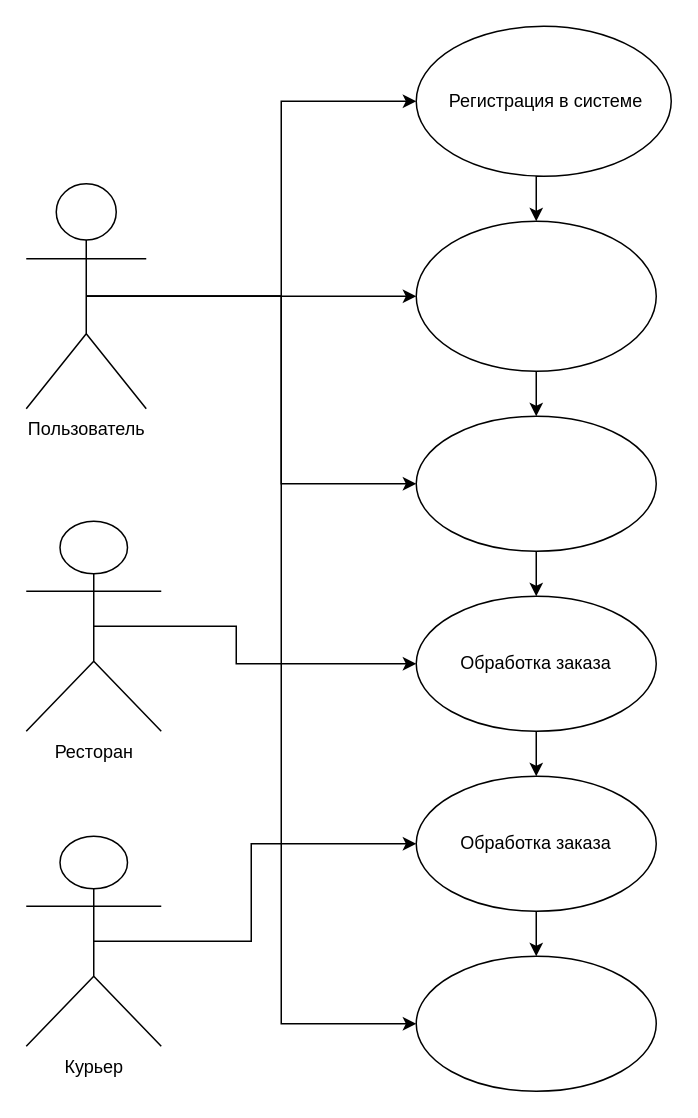
Some shapes in this 698 by 1118 pixel diagram are drawn without their labels. Each missing label, with the centre of its shape:
Оформление заказа: [535,483]
Оценивание заказа: [535,1023]
Просмотр ресторанов и меню: [535,295]
